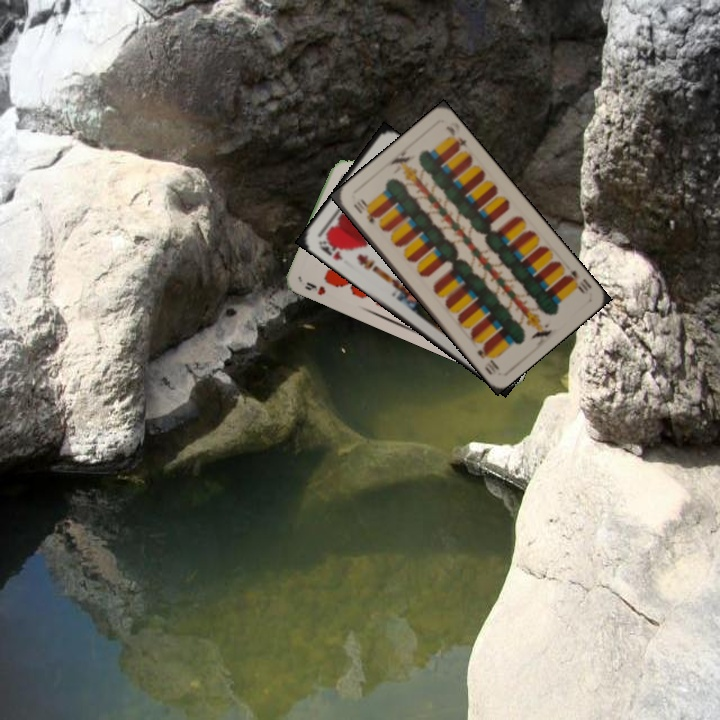E10: (560, 265, 594, 296), (349, 196, 378, 227)
H9: (301, 278, 328, 298)
HK: (314, 234, 345, 263)
